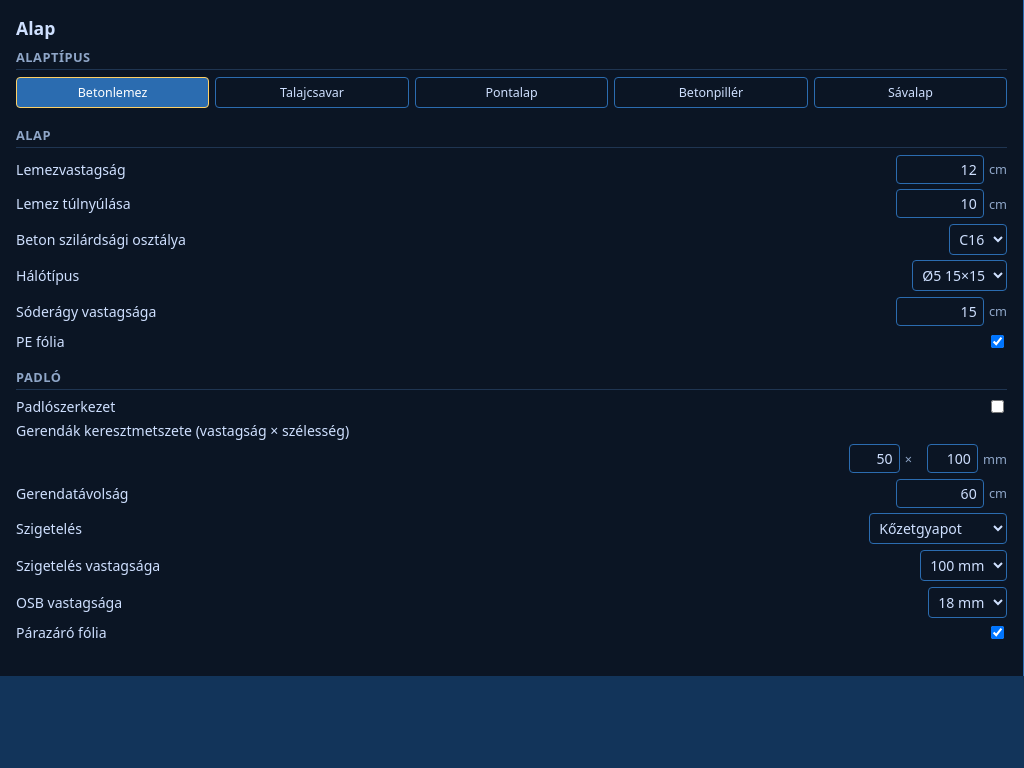
Test case: Alaptípus › switching to ground screw swaps the fields and locks the floor toggle
Click the button "Talajcsavar": {"x": 312, "y": 92} [216, 77, 409, 108]
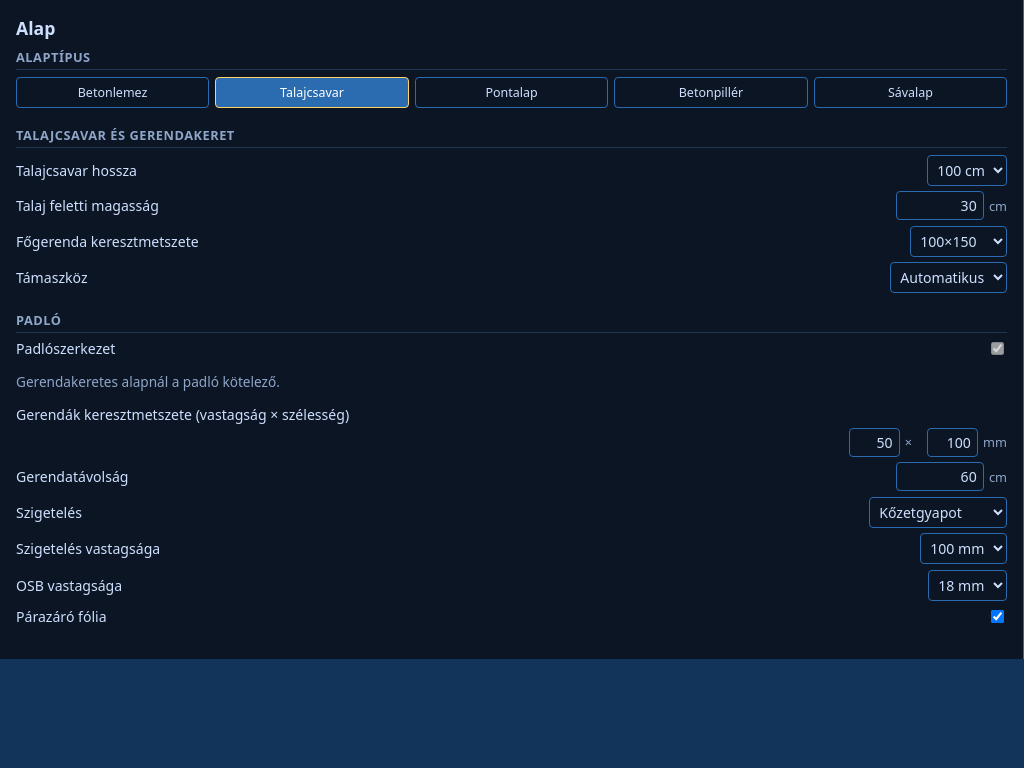
Expected: the dropdown labelled "Talajcsavar hossza" is shown, [927, 154, 1007, 186]
Result: the text "Gerendakeretes alapnál a padló kötelező." is shown at [16, 372, 280, 391]
